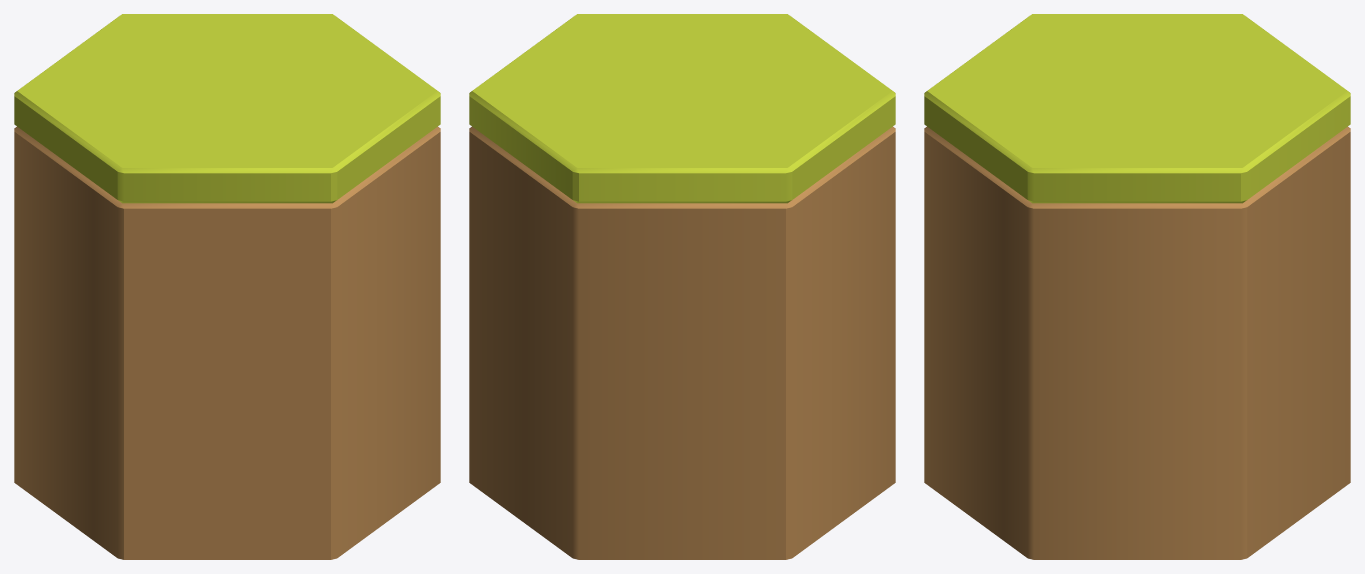
Rendered from Tile (v.1).fbx.
3 views of the same model, side by side, from view 1: azimuth 30°, elevation 25°; view 2: azimuth 150°, elevation 25°; view 3: azimuth 270°, elevation 25° (orthographic).
Parts seen in each view (by area): view 1: ground; view 2: ground; view 3: ground.
Part boxes in pixels (<box>): ground: <box>14,14,440,559</box>; ground: <box>469,14,895,559</box>; ground: <box>924,14,1350,559</box>.
Bounding box in the file's own units: 173 × 200 × 198.
